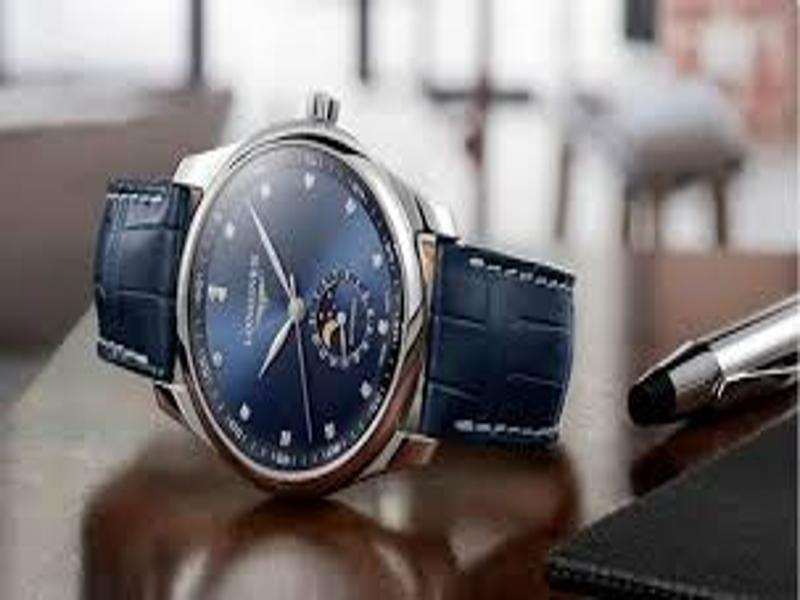watch: (79, 90, 576, 493)
